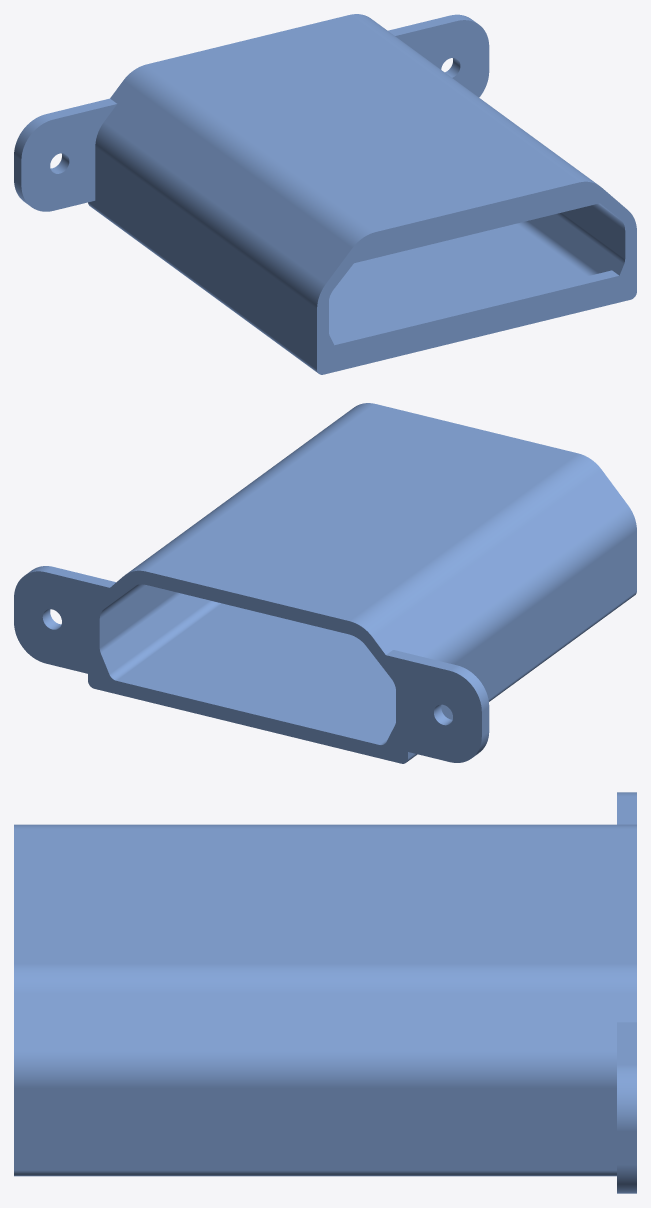
The picture shows the model from 3 angles, top to bottom: view 1: azimuth 30°, elevation 25°; view 2: azimuth 150°, elevation 25°; view 3: azimuth 270°, elevation 25°; orthographic projection. The views are drawn at different scales.
Visible parts, largest first — view 1: mesh9663, mesh9675, mesh9697, mesh9657, mesh9658, mesh9662, mesh9656, mesh9650, mesh9673, mesh9664, mesh9692, mesh9693 (+5 smaller); view 2: mesh9663, mesh9695, mesh9697, mesh9658, mesh9657, mesh9662, mesh9656, mesh9664, mesh9693, mesh9680, mesh9698, mesh9659 (+3 smaller); view 3: mesh9663, mesh9665, mesh9667, mesh9666, mesh9664, mesh9661, mesh9662, mesh9669, mesh9668, mesh9670, mesh9672, mesh9654.
Part boxes in pixels (x1,y1,x2,y2): mesh9663: (147, 15, 577, 231); mesh9675: (317, 181, 636, 374); mesh9697: (329, 224, 586, 338); mesh9657: (89, 147, 316, 369); mesh9658: (104, 80, 352, 283); mesh9662: (123, 64, 374, 247); mesh9656: (95, 122, 325, 308); mesh9650: (21, 104, 116, 211); mesh9673: (395, 20, 489, 97); mesh9664: (350, 14, 597, 184); mesh9692: (331, 270, 618, 345); mesh9693: (528, 214, 623, 275); mesh9663: (147, 404, 577, 620); mesh9695: (14, 570, 481, 763); mesh9697: (117, 603, 395, 744); mesh9658: (372, 469, 627, 656); mesh9657: (408, 531, 636, 758); mesh9662: (350, 453, 601, 636); mesh9656: (422, 505, 636, 664); mesh9664: (127, 403, 374, 573); mesh9693: (101, 594, 209, 673); mesh9680: (99, 585, 175, 647); mesh9698: (109, 600, 221, 680); mesh9659: (406, 591, 636, 762); mesh9663: (14, 829, 636, 963); mesh9665: (14, 1088, 616, 1170); mesh9667: (14, 993, 636, 1051); mesh9666: (14, 1051, 616, 1088); mesh9664: (14, 964, 636, 993); mesh9661: (14, 1170, 616, 1176); mesh9662: (14, 824, 636, 829); mesh9669: (617, 1065, 636, 1131); mesh9668: (617, 1022, 636, 1064); mesh9670: (617, 1131, 636, 1164); mesh9672: (617, 1164, 636, 1193); mesh9654: (617, 797, 636, 824).
Bounding box in the file's own units: 0.0731 × 0.0194 × 0.062.
